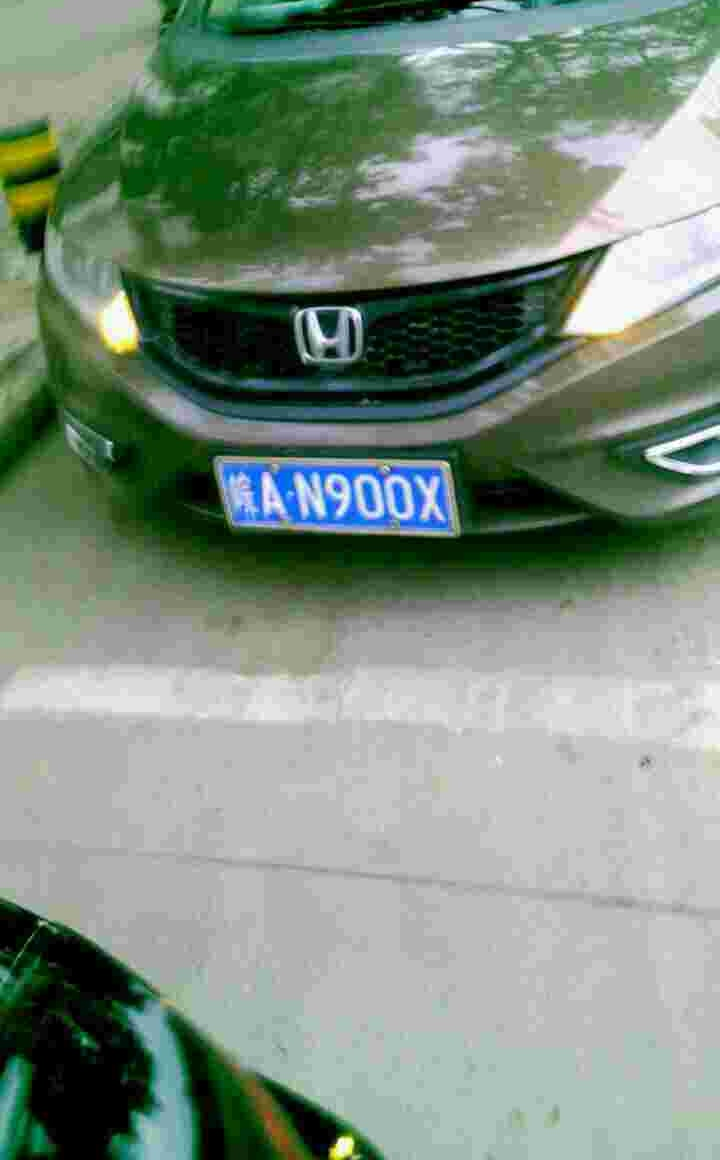license_plate: (217, 453, 454, 533)
